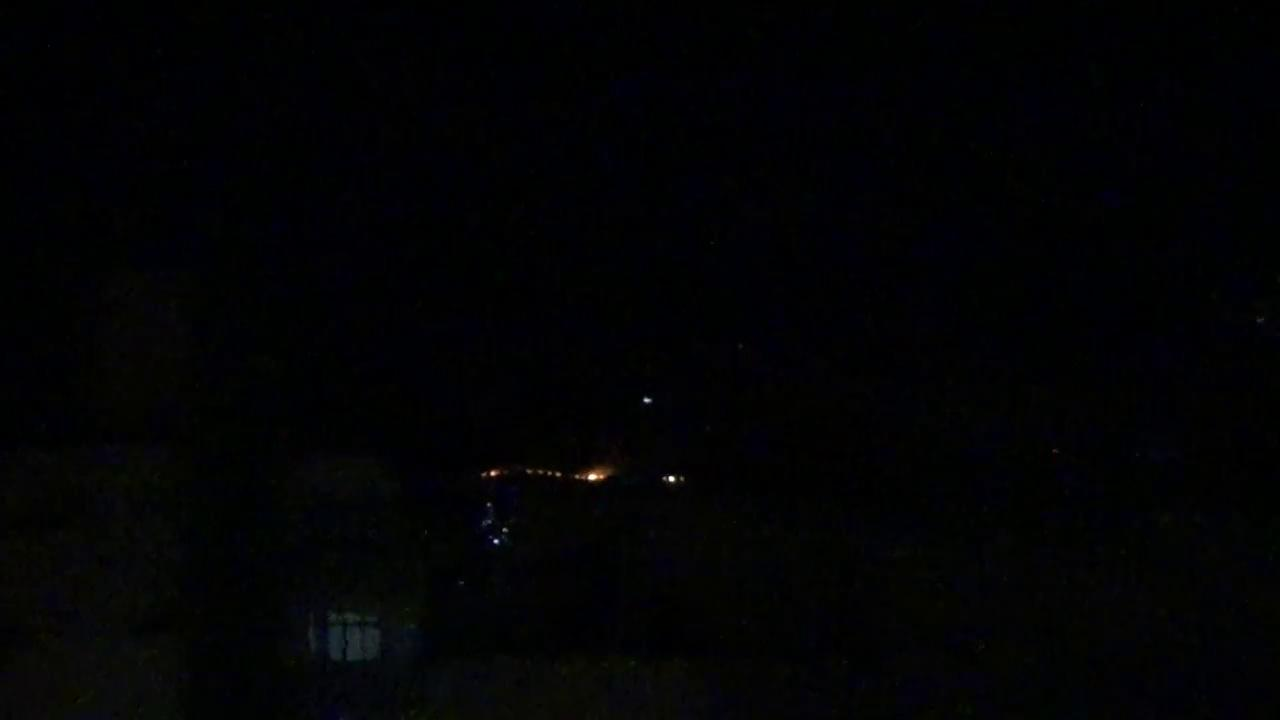fire: (577, 468, 609, 480), (481, 467, 498, 478)
